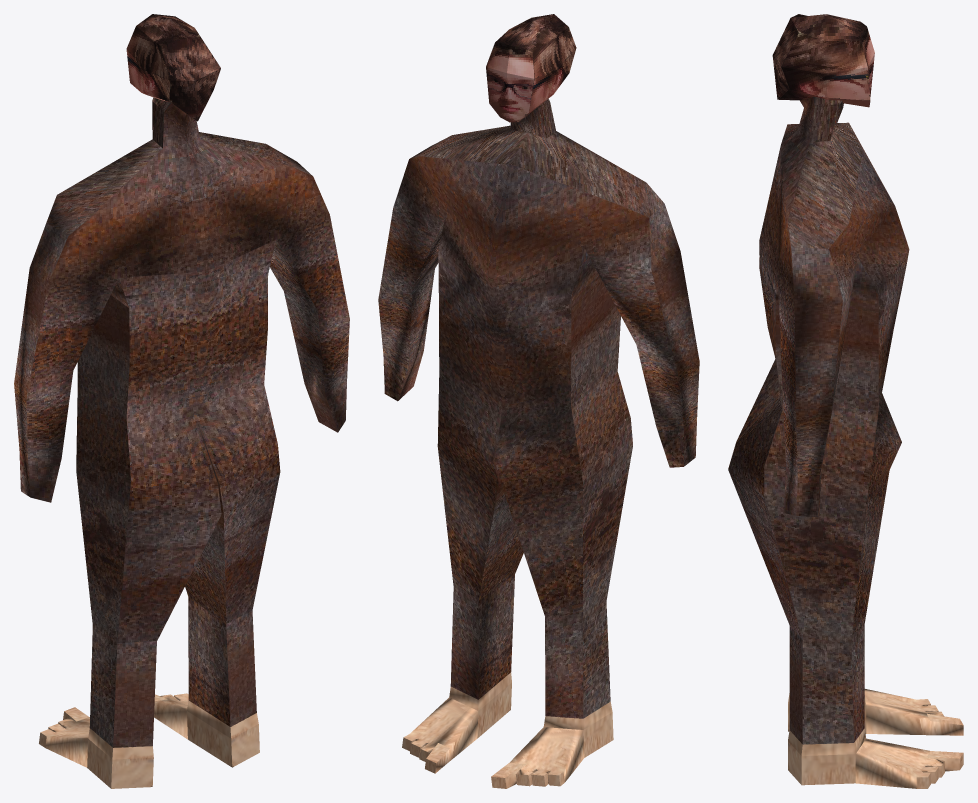
File: guard.glb
3 renders of one model, left to right at view 1: azimuth 30°, elevation 25°; view 2: azimuth 150°, elevation 25°; view 3: azimuth 270°, elevation 25°, orthographic. The views are drawn at different scales.
Visible parts, largest first — view 1: Cube, Roundcube; view 2: Cube, Roundcube; view 3: Cube, Roundcube.
Boxes of the visible parts, x1=… form: Cube: x1=14, y1=97, x2=349, y2=788; Roundcube: x1=126, y1=14, x2=220, y2=121; Cube: x1=378, y1=99, x2=699, y2=788; Roundcube: x1=486, y1=14, x2=576, y2=122; Cube: x1=728, y1=96, x2=963, y2=788; Roundcube: x1=772, y1=14, x2=874, y2=107.
Bounding box in the file's own units: 1.13 × 2.48 × 0.7192.
3 materials, 3 textured.
